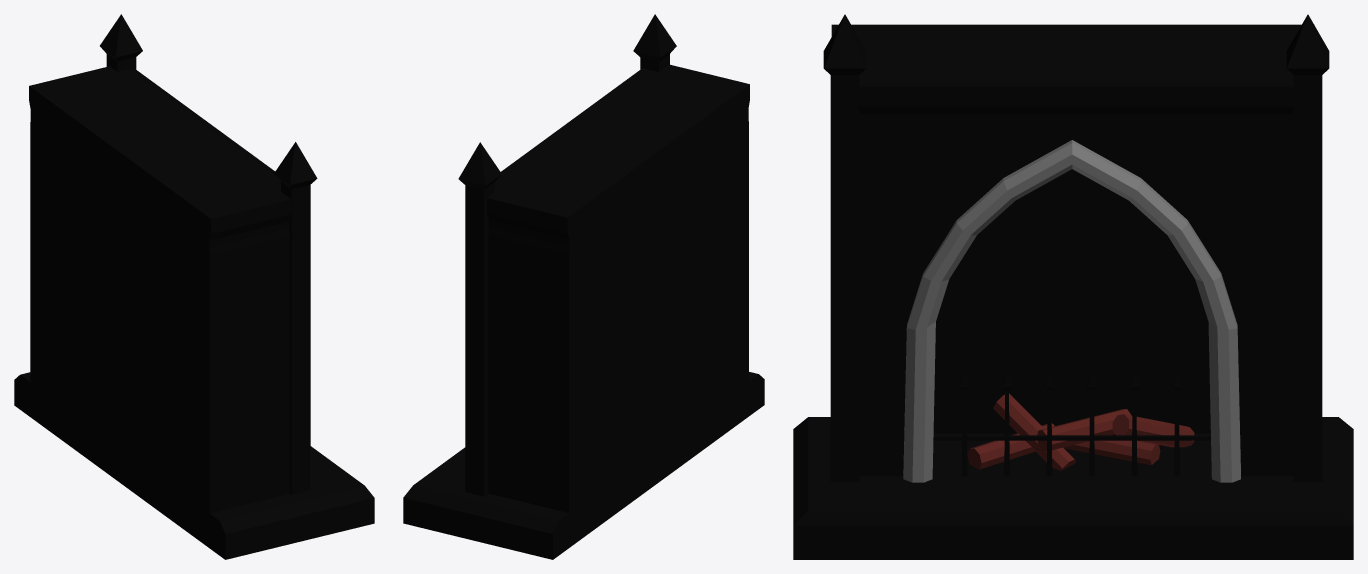
File: fireplace2.fbx
3 views of the same model, side by side, from view 1: azimuth 30°, elevation 25°; view 2: azimuth 150°, elevation 25°; view 3: azimuth 270°, elevation 25° (orthographic). The views are drawn at different scales.
Parts seen in each view (by area): view 1: Fireplace; view 2: Fireplace; view 3: Fireplace.
Boxes of the visible parts, <box> form: Fireplace: <box>14,14,374,559</box>; Fireplace: <box>403,14,764,559</box>; Fireplace: <box>793,14,1353,559</box>.
Bounding box in the file's own units: 63.69 × 156 × 156.
